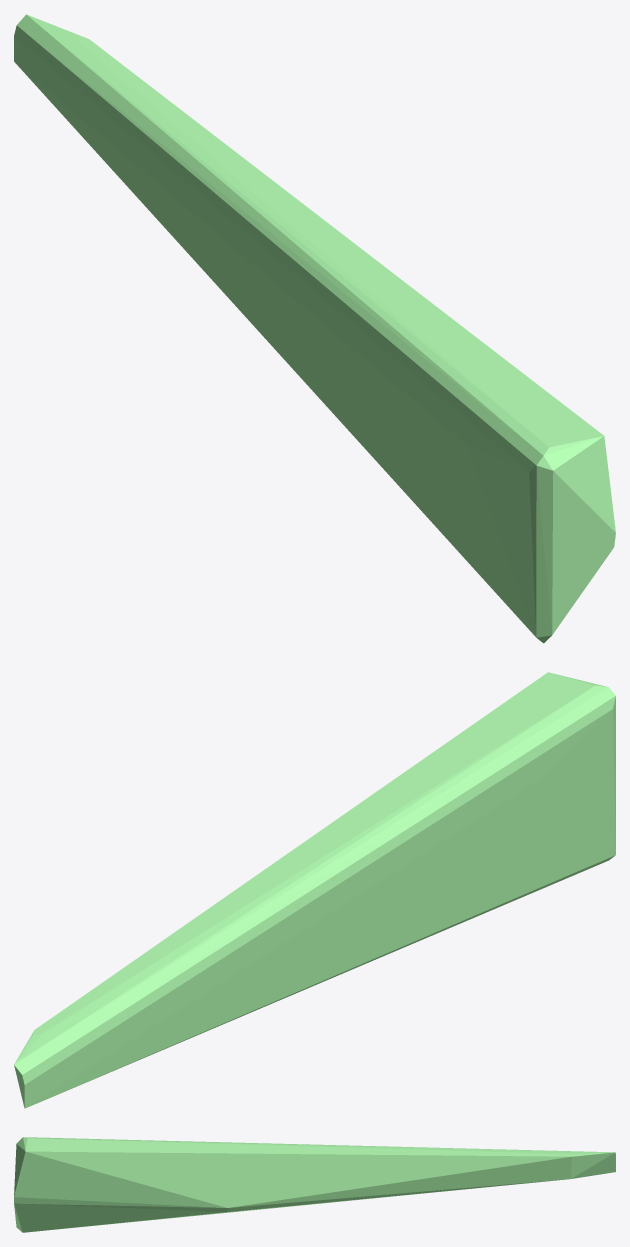
Rendered from dvkr_robot_L2_respondable_PSM1_coll_5.dae.
3 renders of one model, top to bottom at view 1: azimuth 30°, elevation 25°; view 2: azimuth 150°, elevation 25°; view 3: azimuth 270°, elevation 25°, orthographic. The views are drawn at different scales.
Visible parts, largest first — view 1: Node_0000023515114AE0; view 2: Node_0000023515114AE0; view 3: Node_0000023515114AE0.
Boxes of the visible parts, box(x1,y1,x2,y2) form: Node_0000023515114AE0: box(14, 14, 615, 643); Node_0000023515114AE0: box(14, 672, 615, 1108); Node_0000023515114AE0: box(14, 1137, 615, 1232).
Size of the model in its own units: 0.0439 by 0.0749 by 0.4211.
